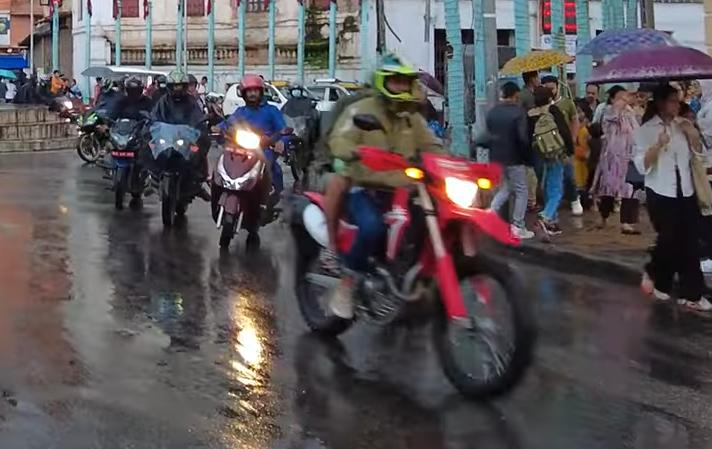bike: (285, 108, 539, 399)
